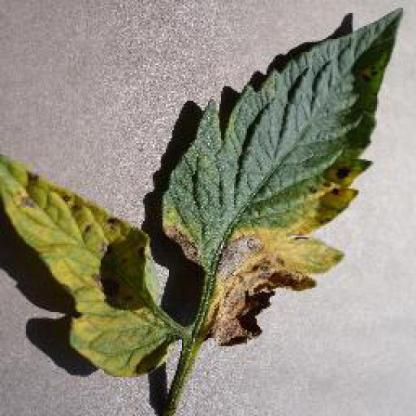Tomato_Blight: (0, 5, 406, 376)
